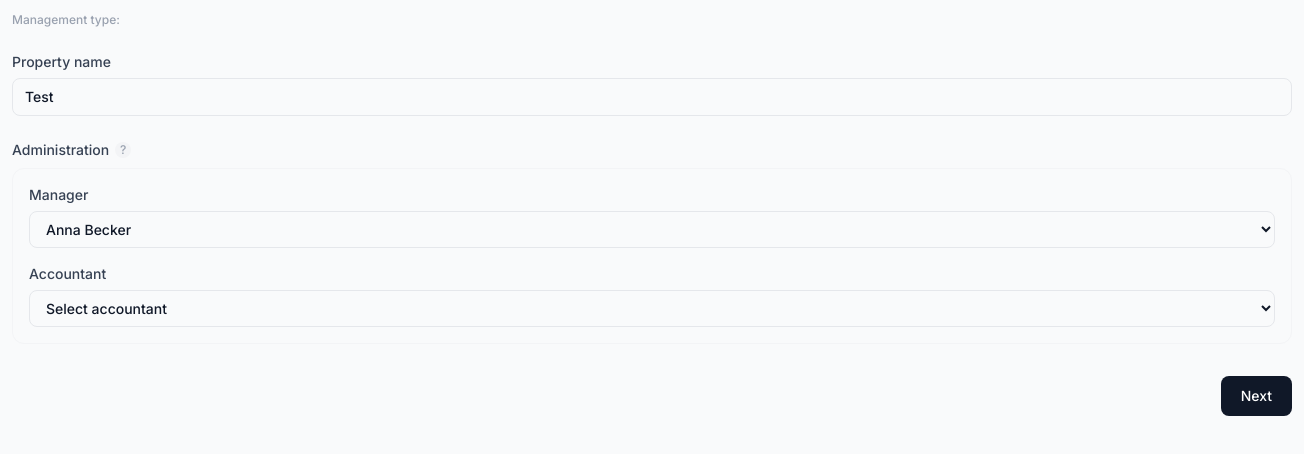
Test: StepProperty › inline validation on submit › shows error only for missing fields when some are filled
Click the button "Next". click: (1256, 396)
box: x1=1221 y1=376 x2=1292 y2=416
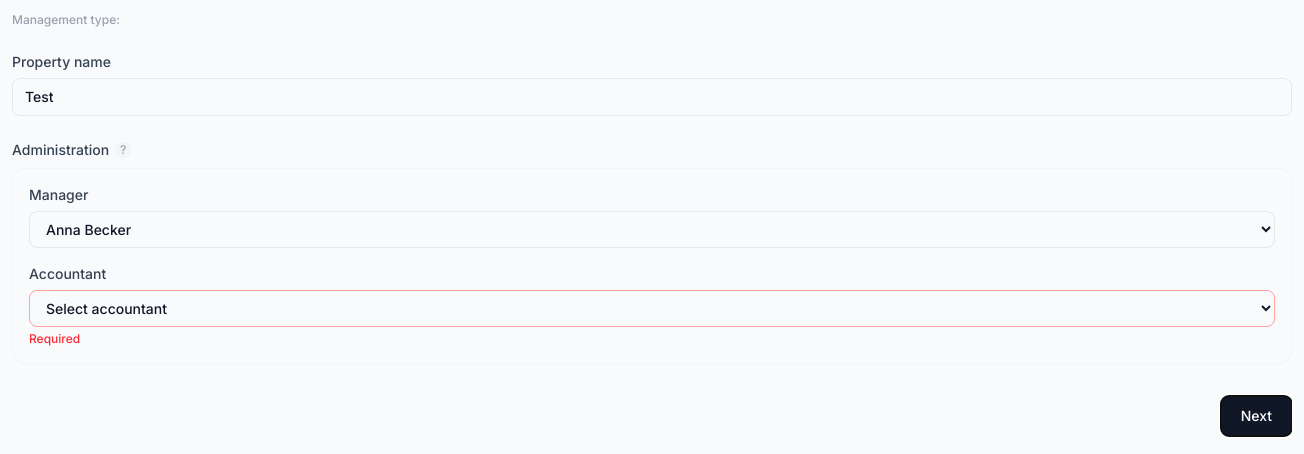
Check: the text "Required" is shown once, box x1=29 y1=331 x2=80 y2=346
